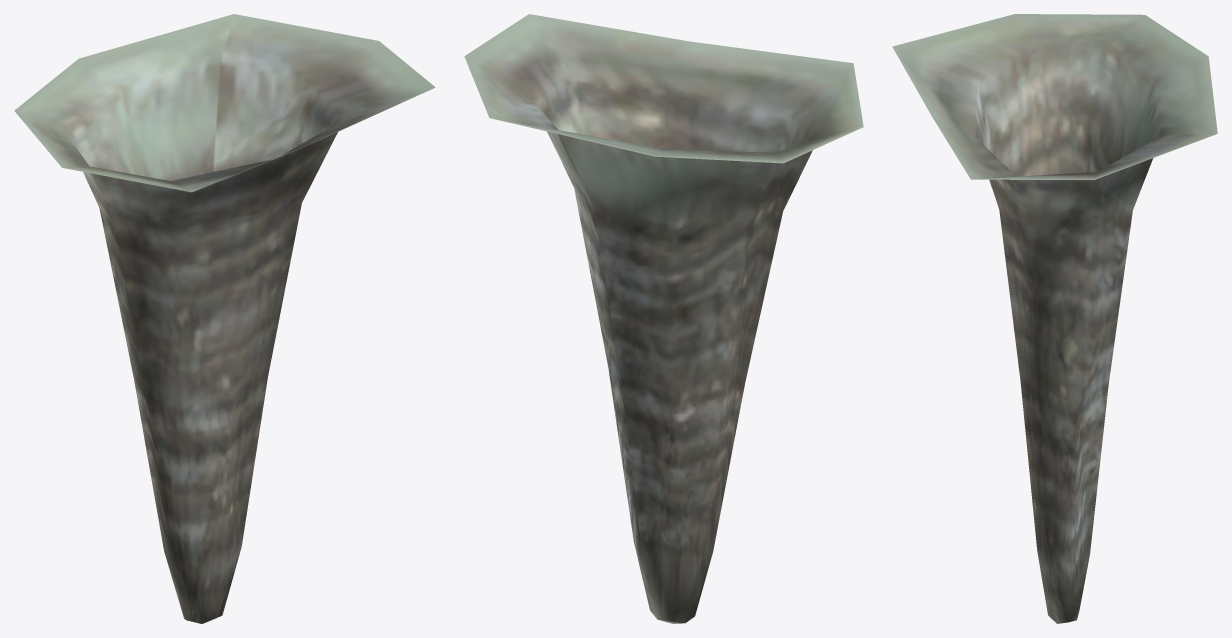
The model's file is TROLLHOLE02_PS-MAINSTALAG66.fbx.
3 renders of one model, left to right at view 1: azimuth 30°, elevation 25°; view 2: azimuth 150°, elevation 25°; view 3: azimuth 270°, elevation 25°, orthographic. The views are drawn at different scales.
Visible parts, largest first — view 1: TROLLHOLE02_PS-MAINSTALAG66; view 2: TROLLHOLE02_PS-MAINSTALAG66; view 3: TROLLHOLE02_PS-MAINSTALAG66.
Boxes of the visible parts, <box> form: TROLLHOLE02_PS-MAINSTALAG66: <box>14,14,435,623</box>; TROLLHOLE02_PS-MAINSTALAG66: <box>464,14,863,623</box>; TROLLHOLE02_PS-MAINSTALAG66: <box>892,14,1217,623</box>.
Size of the model in its own units: 29760 by 42275 by 23008.
Materials: 1 (1 with a texture image).
